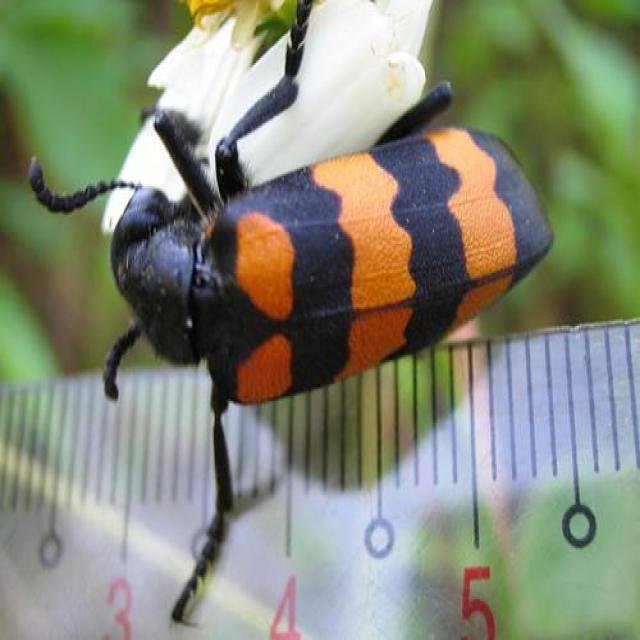BlisterBeetle-Adult-: (26, 53, 569, 426)
